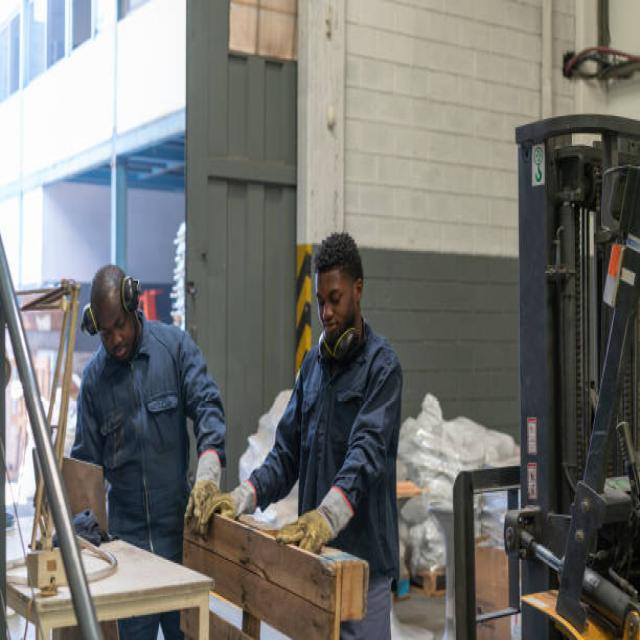Gloves: (270, 484, 361, 558), (195, 472, 262, 541), (182, 445, 226, 542)
person: (229, 235, 400, 640), (67, 260, 227, 640)
